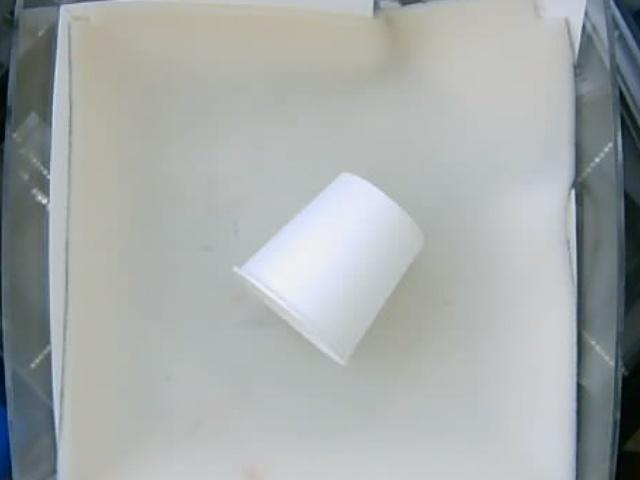Cup: (232, 171, 422, 367)
